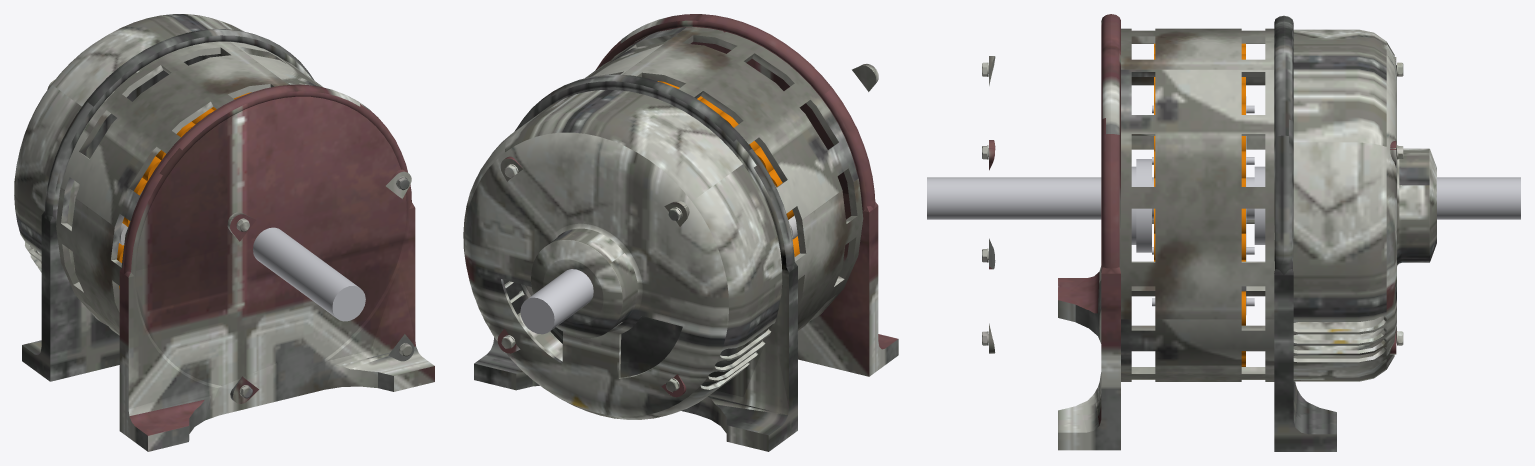
3 views of the same model, side by side, from view 1: azimuth 30°, elevation 25°; view 2: azimuth 150°, elevation 25°; view 3: azimuth 270°, elevation 25° (orthographic). The views are drawn at different scales.
Parts seen in each view (by area): view 1: Model1; view 2: Model1; view 3: Model1.
Part boxes in pixels (box(x1,y1,x2,y2)): Model1: box(14, 14, 434, 451); Model1: box(463, 14, 898, 451); Model1: box(927, 14, 1520, 451).
Size of the model in its own units: 94.5 by 98.12 by 154.
